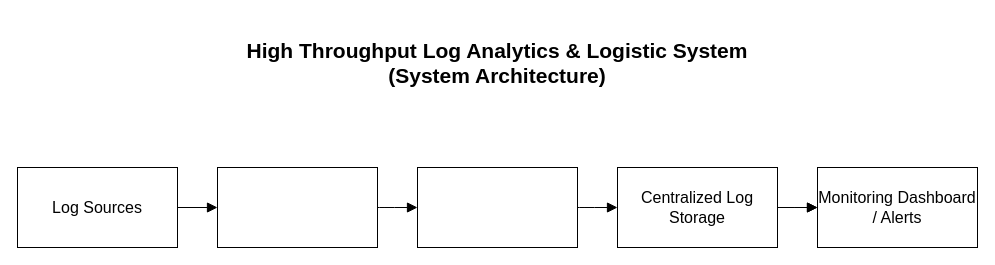
Image size: 995x265. Some labels were removed from this diagram. The shapes that lost their labels are listed below. From the top down, each one's box as (x1, y1, x2, y2) in pixels, then its label:
(216, 166, 378, 248): Log Ingestion (Dask / Ray)
(416, 166, 578, 248): Log Processing & Anomaly Detection Engine
